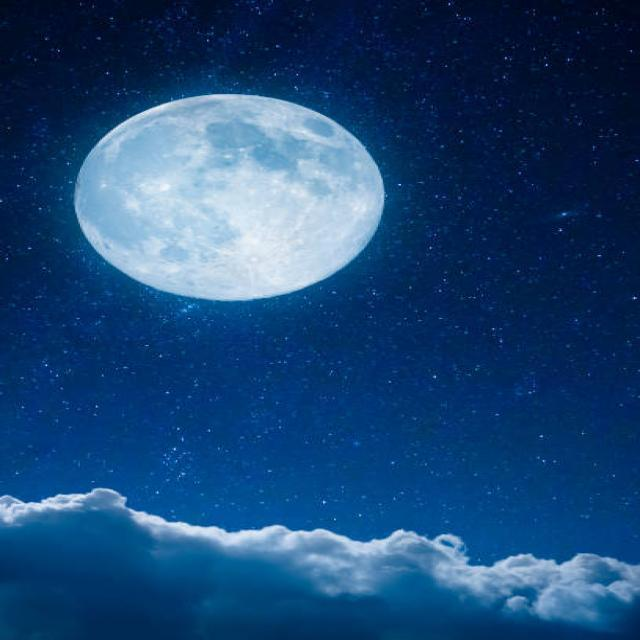moon: (77, 93, 386, 299)
